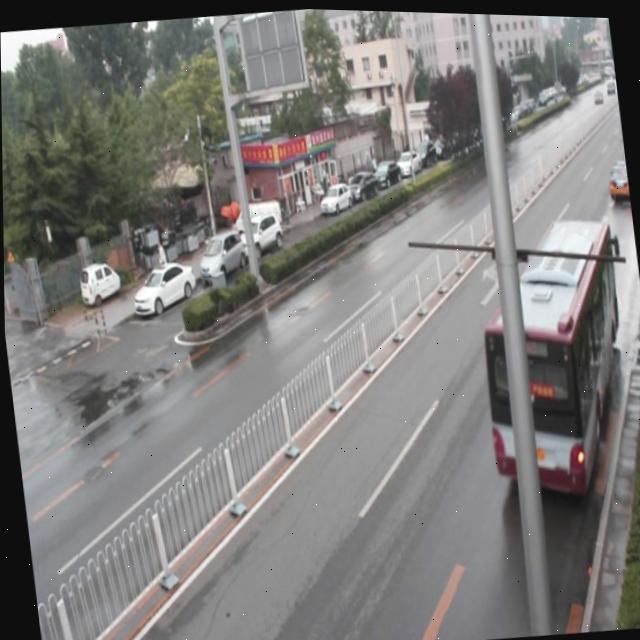car: (603, 156, 629, 199)
van: (464, 209, 640, 501)
